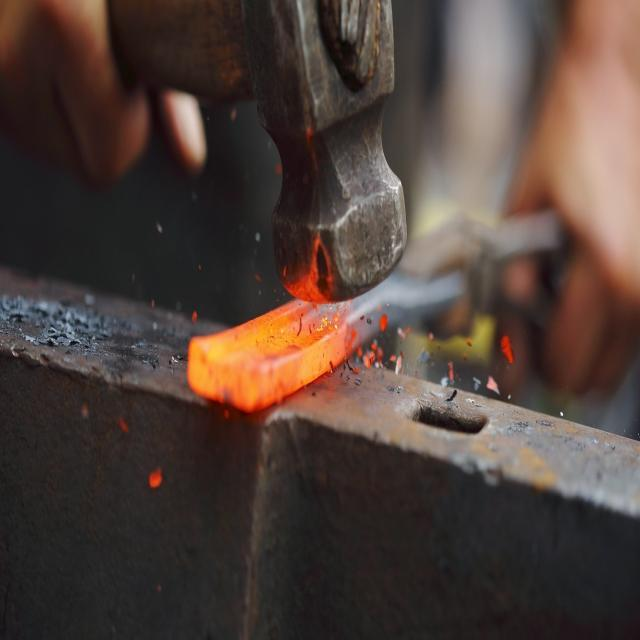hammer: (110, 0, 411, 315)
